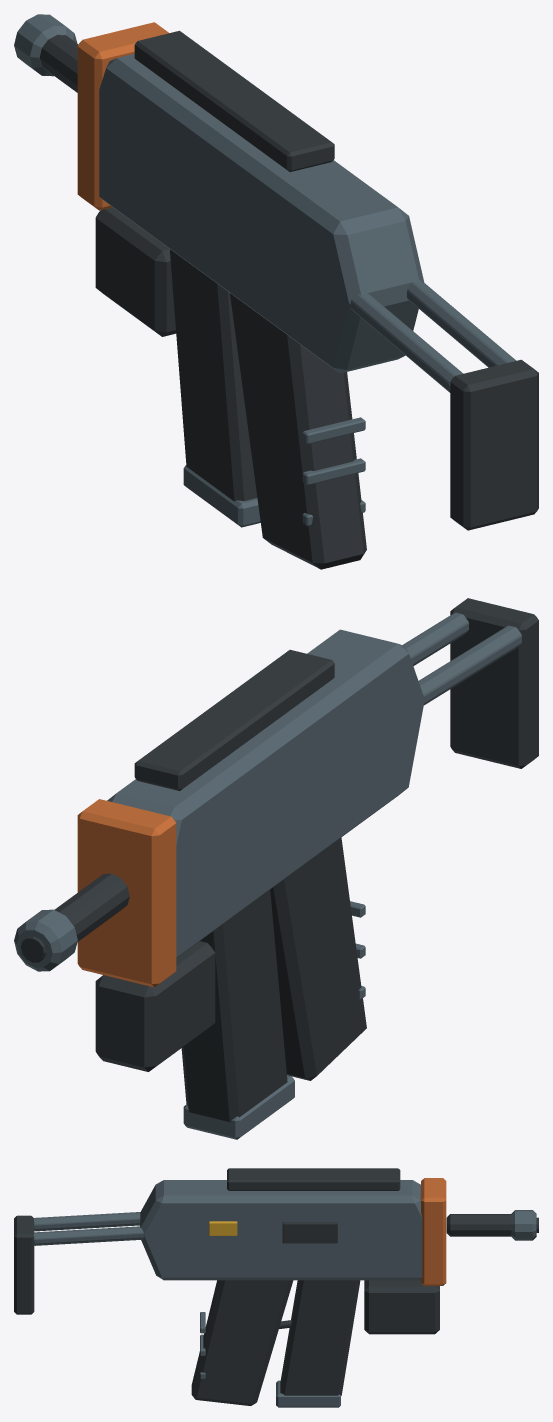
Rendered from weapon_submachine_gun_model.glb.
The picture shows the model from 3 angles, top to bottom: view 1: azimuth 30°, elevation 25°; view 2: azimuth 150°, elevation 25°; view 3: azimuth 270°, elevation 25°; orthographic projection. The views are drawn at different scales.
Visible parts, largest first — view 1: BH_SMG_01_RenderMesh; view 2: BH_SMG_01_RenderMesh; view 3: BH_SMG_01_RenderMesh.
Boxes of the visible parts, <box> form: BH_SMG_01_RenderMesh: <box>14,14,538,569</box>; BH_SMG_01_RenderMesh: <box>14,598,538,1139</box>; BH_SMG_01_RenderMesh: <box>14,1168,538,1407</box>.
Bounding box in the file's own units: 0.0695 × 0.3078 × 0.646.
